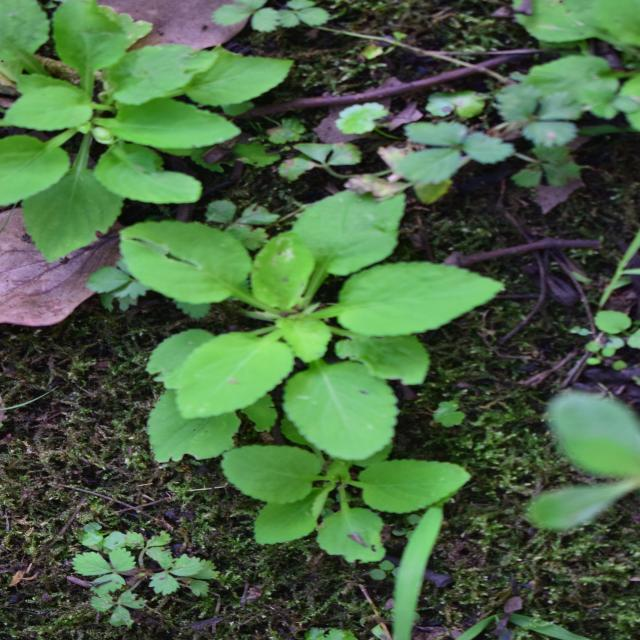Viola: (196, 111, 444, 527), (425, 0, 614, 280), (85, 206, 207, 509)
